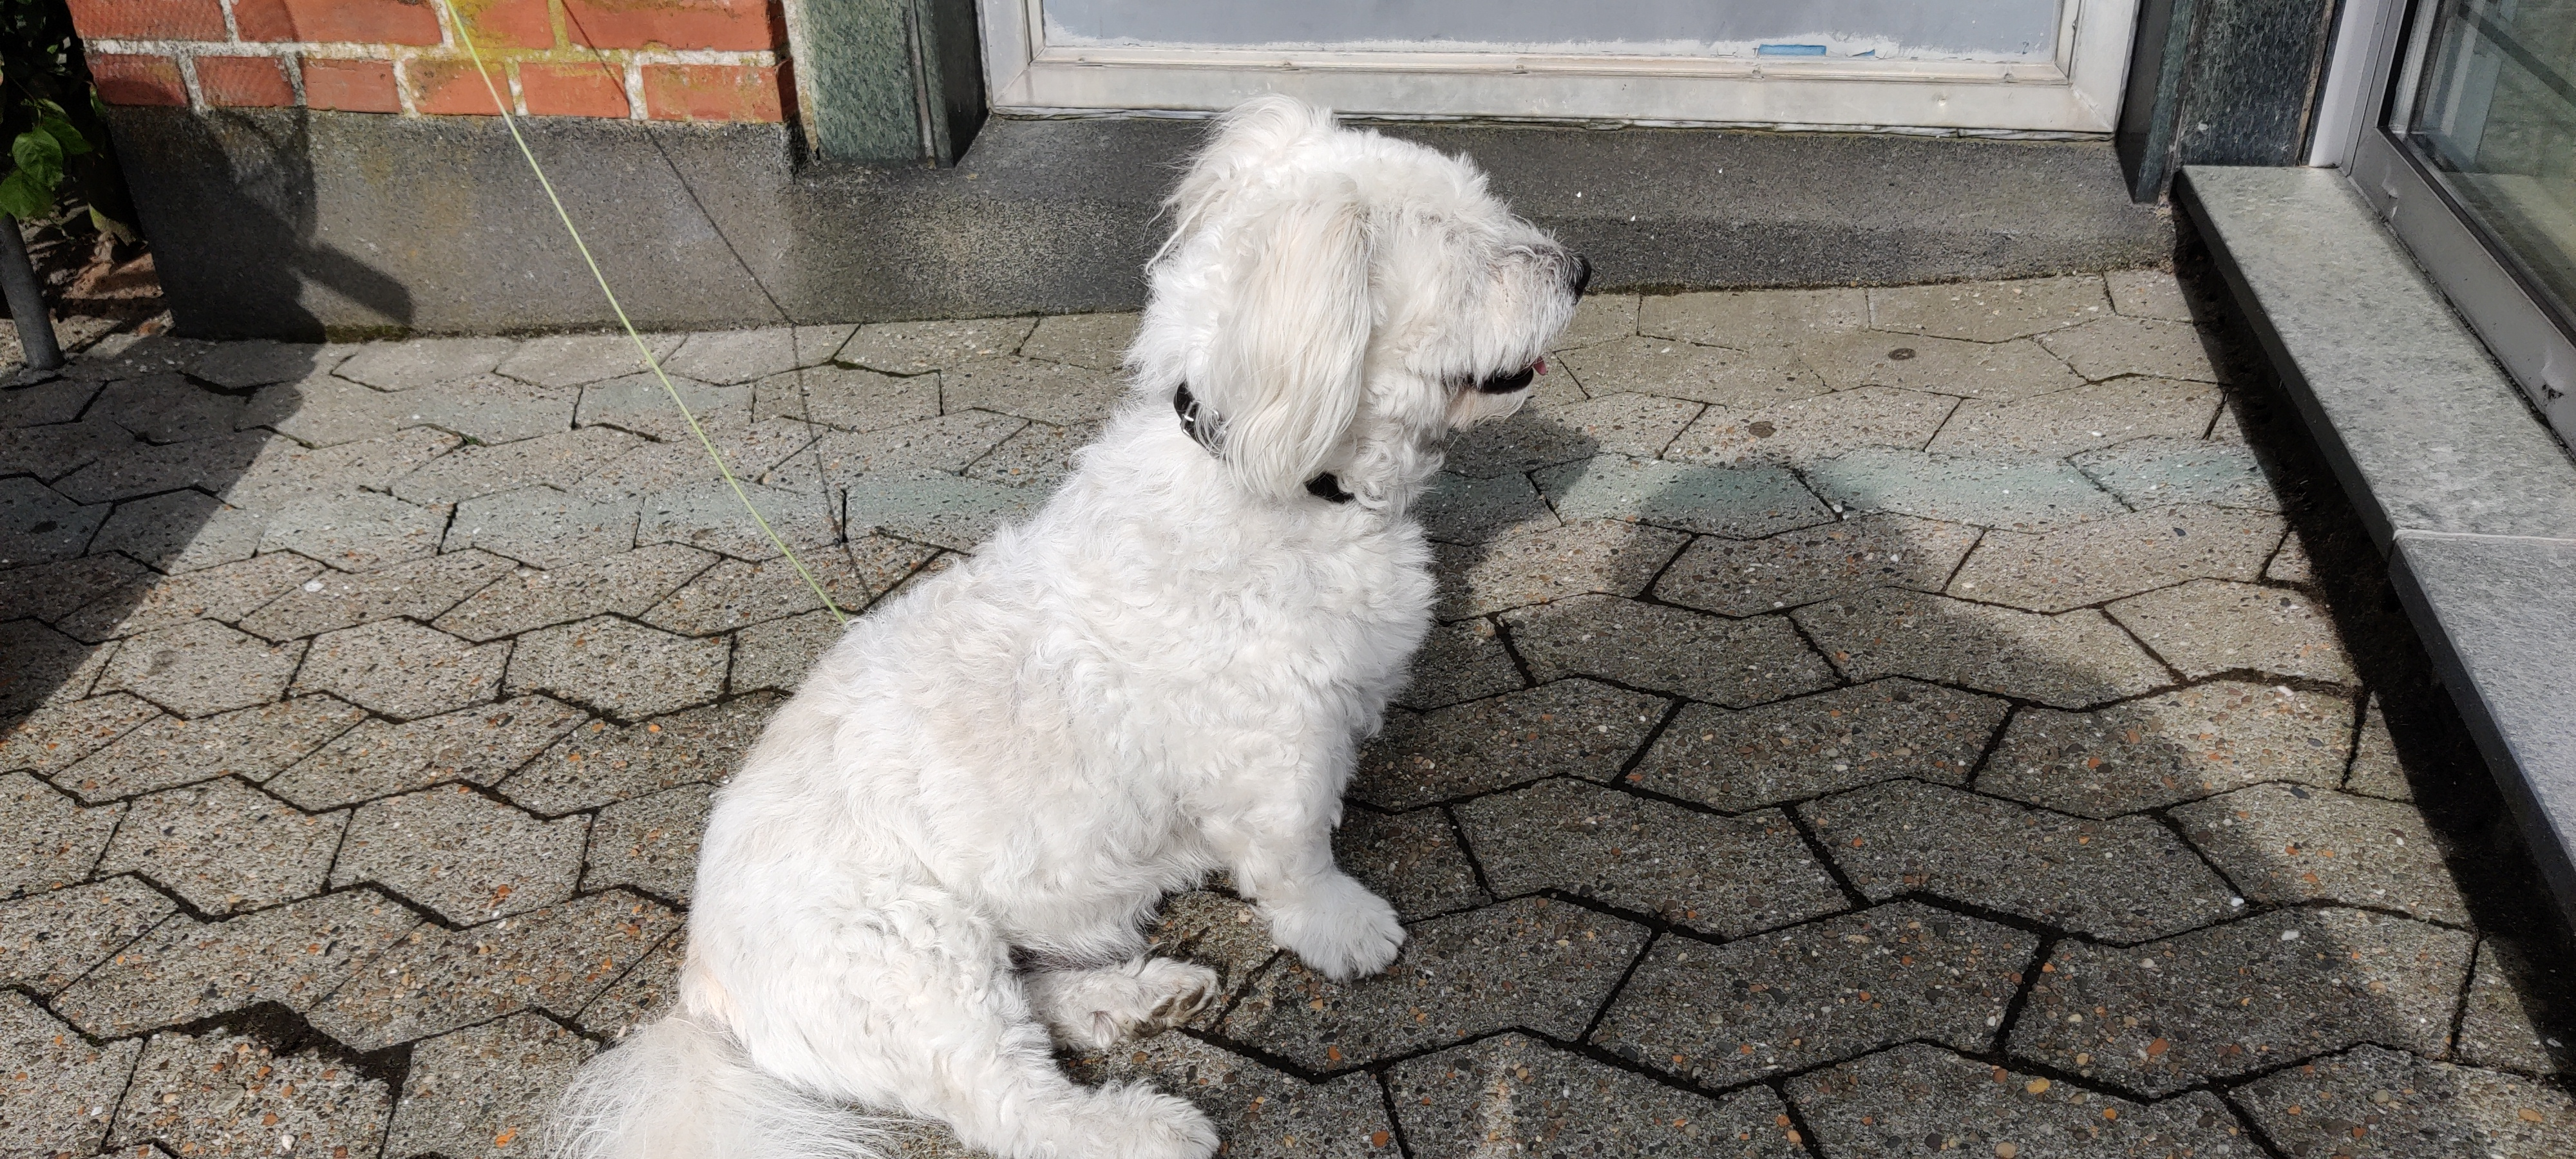Dog: (526, 84, 1603, 1159)
